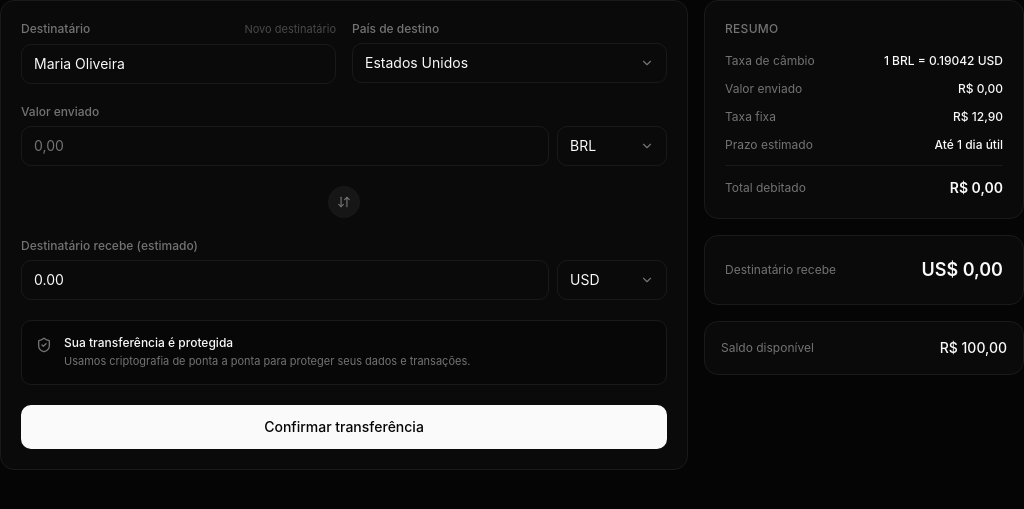
transfer flow › blocks a transfer when the balance is insufficient
Type "1000" into the field labelled "Valor enviado" at (285, 146), box top-left (21, 126), bottom-right (549, 166)
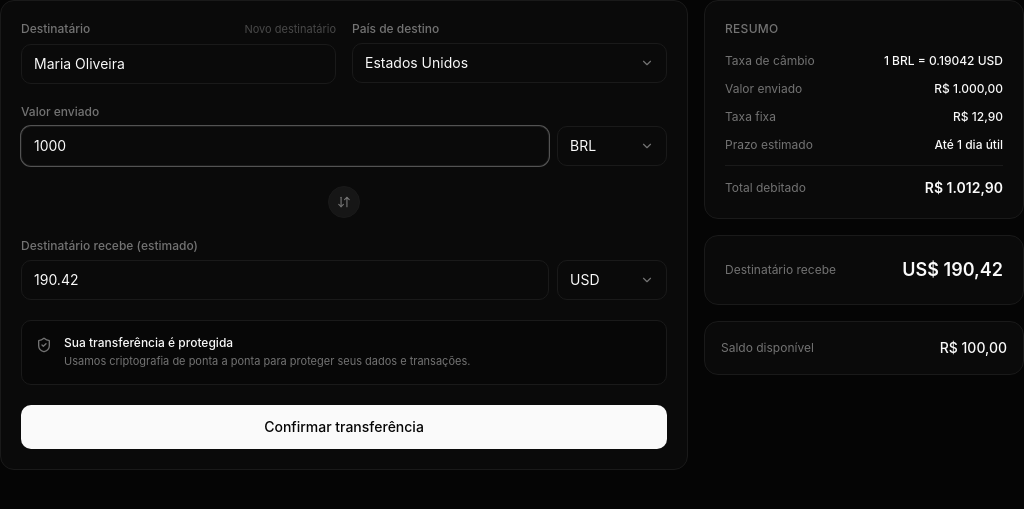
Click the button "Confirmar transferência" at (344, 427), box top-left (21, 405), bottom-right (667, 449)
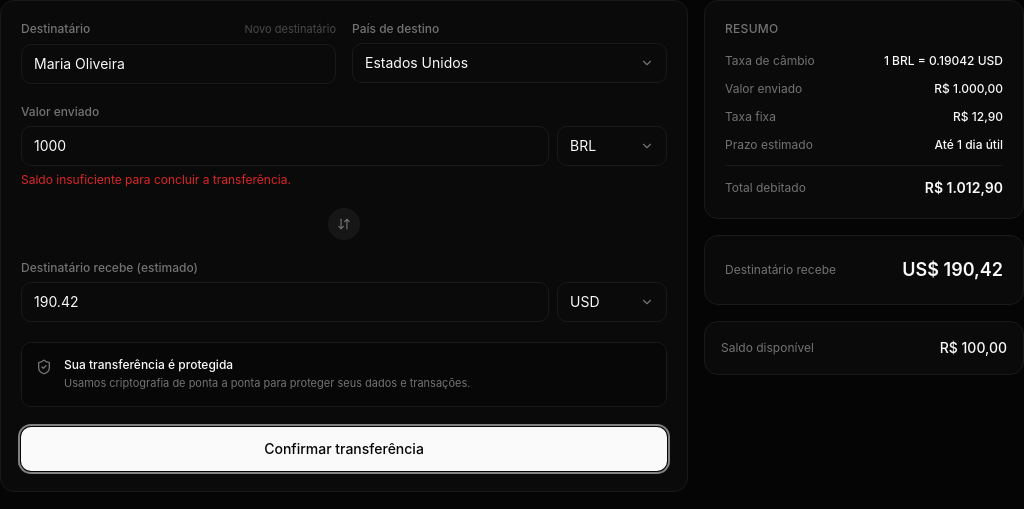
Expected: the text "Saldo insuficiente para concluir a transferência." is shown, top-left (21, 172), bottom-right (291, 186)
